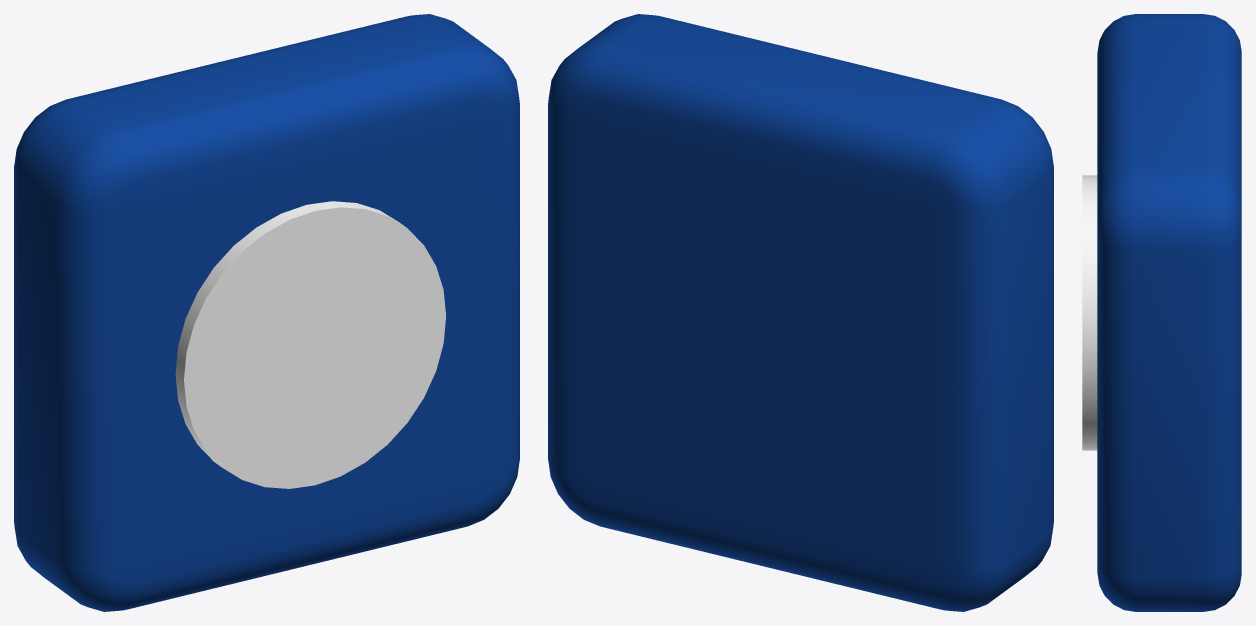
The model's file is record_button.glb.
The picture shows the model from 3 angles, left to right: view 1: azimuth 30°, elevation 25°; view 2: azimuth 150°, elevation 25°; view 3: azimuth 270°, elevation 25°; orthographic projection. The views are drawn at different scales.
Visible parts, largest first — view 1: Cube.6432; view 2: Cube.6432; view 3: Cube.6432.
Part boxes in pixels (left/top/right/bottom): Cube.6432: left=14, top=14, right=519, bottom=611; Cube.6432: left=548, top=14, right=1053, bottom=611; Cube.6432: left=1082, top=14, right=1241, bottom=611.
Size of the model in its own units: 2.2 by 2.2 by 0.73.
1 material, 1 textured.
